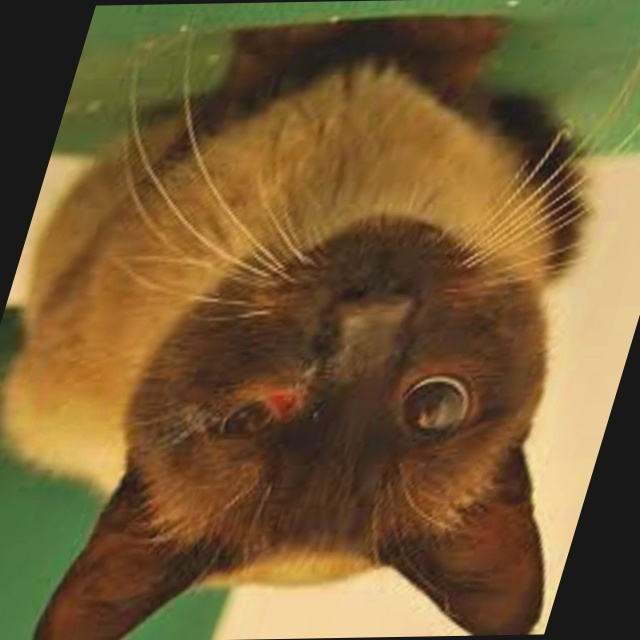eye_infection: (221, 389, 295, 437)
